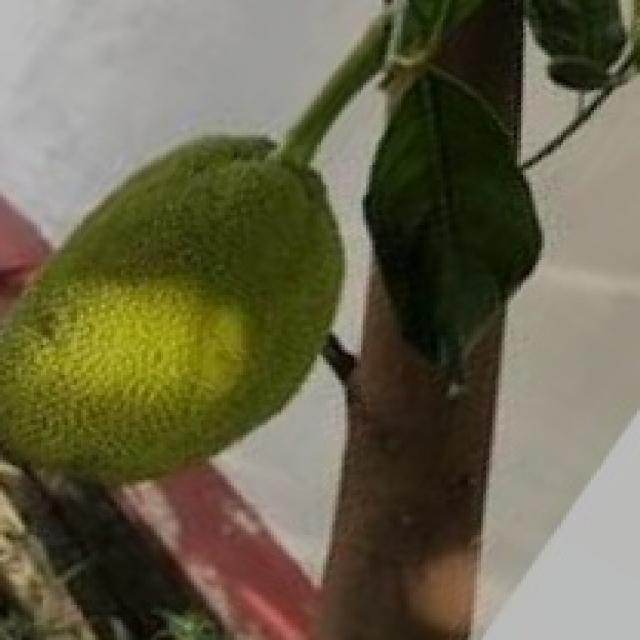Fruit: (0, 110, 378, 495)
